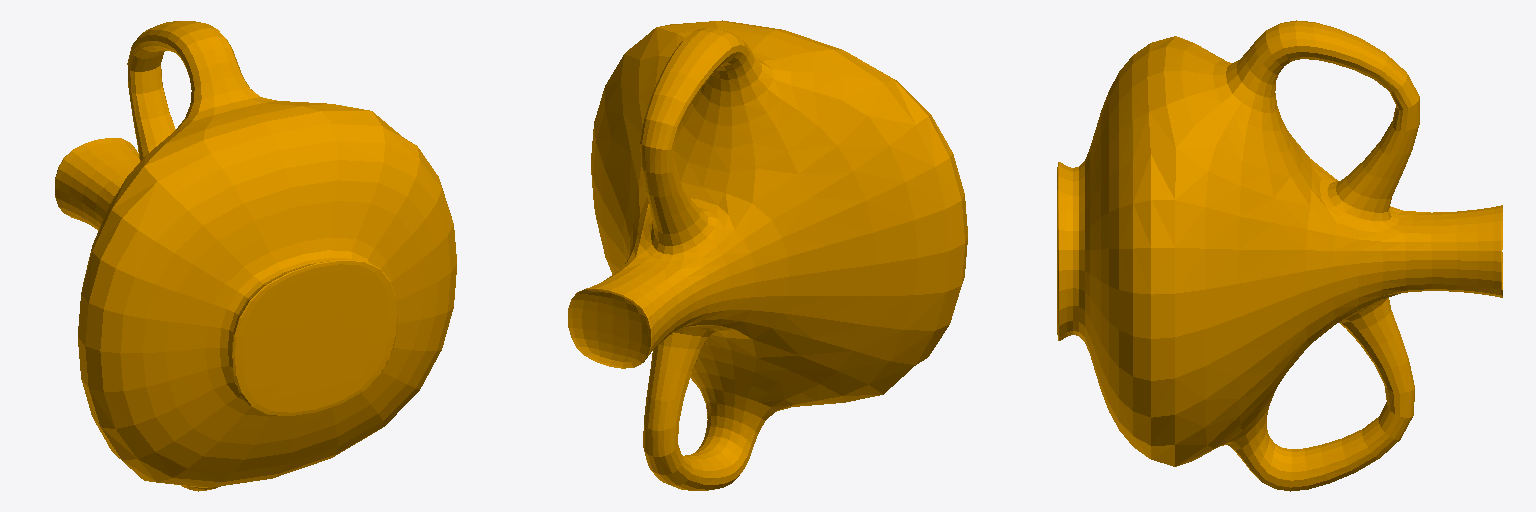
robot.urdf — 8:
<?xml version="1.0" ?>
<robot name="8">
  <link name="body">
    <visual>
      <geometry>
        <mesh filename="../shapes/8.obj"/>
      </geometry>
    </visual>
    <collision>
      <geometry>
        <mesh filename="../shapes/8.obj"/>
      </geometry>
    </collision>
  </link>
</robot>

--- Render facts (derived) ---
3 views of the same robot in one strip: view 1: azimuth 30°, elevation 25°; view 2: azimuth 150°, elevation 25°; view 3: azimuth 270°, elevation 25° (orthographic).
Robot: 8 — 1 links, 0 joints (none); root link body; default pose: every joint at zero.
Links seen in each view (by area): view 1: body; view 2: body; view 3: body.
Boxes of the visible links, x1,y1,x2,y2 form: body: (55, 21, 456, 491); body: (568, 20, 967, 490); body: (1057, 20, 1502, 491).
Bounding box of the posed robot: 7.7 × 7.93 × 9.07 m (x, y, z).
Meshes: 1 distinct files referenced, 1 mesh visuals loaded (1 OBJ).